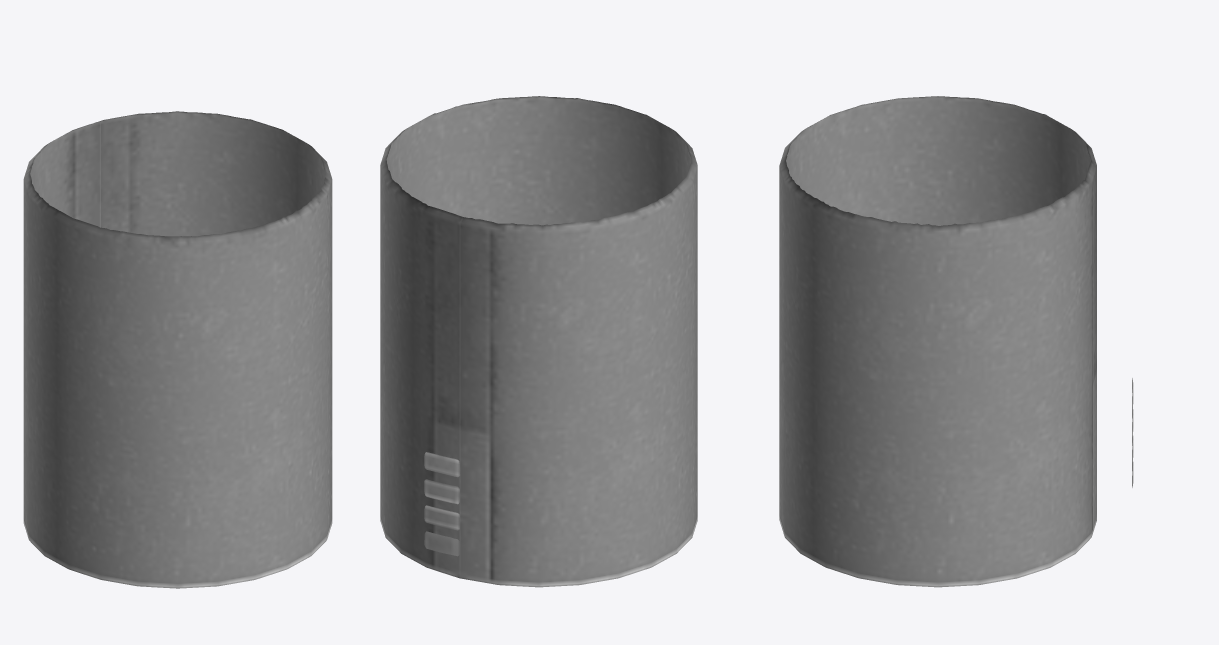
Rendered from 038_electrickettle.fbx.
The picture shows the model from 3 angles, left to right: view 1: azimuth 30°, elevation 25°; view 2: azimuth 150°, elevation 25°; view 3: azimuth 270°, elevation 25°; orthographic projection. The views are drawn at different scales.
Visible parts, largest first — view 1: LOD_1_Group_0_Sub_1__sm31_038_ElectricKettle01A_A_Mat; view 2: LOD_1_Group_0_Sub_1__sm31_038_ElectricKettle01A_A_Mat, LOD_1_Group_1_Sub_1__sm31_038_ElectricKettle01A_A_Mat; view 3: LOD_1_Group_0_Sub_1__sm31_038_ElectricKettle01A_A_Mat.
Part boxes in pixels (x1,y1,x2,y2): LOD_1_Group_0_Sub_1__sm31_038_ElectricKettle01A_A_Mat: (23, 111, 332, 588); LOD_1_Group_0_Sub_1__sm31_038_ElectricKettle01A_A_Mat: (380, 96, 697, 587); LOD_1_Group_1_Sub_1__sm31_038_ElectricKettle01A_A_Mat: (424, 452, 460, 556); LOD_1_Group_0_Sub_1__sm31_038_ElectricKettle01A_A_Mat: (779, 96, 1096, 587).
Size of the model in its own units: 0.1681 by 0.2733 by 0.2335.
